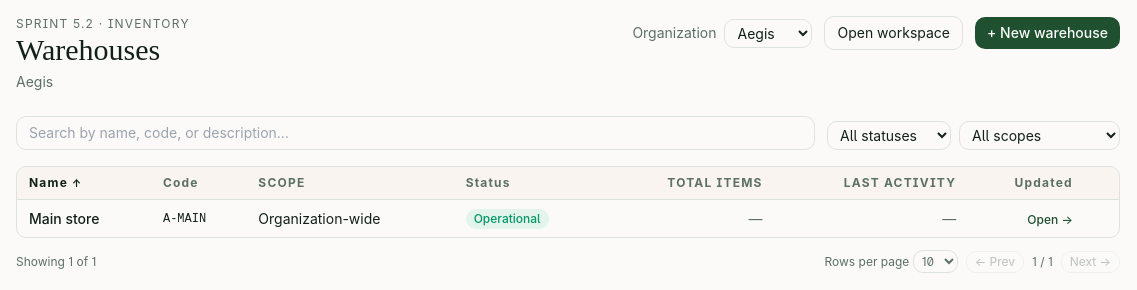
Test: WarehouseListPage › preserves organization context when switching orgs from the selector
Expected: the row with test id "warehouse-row-A-MAIN" is shown, [17,200,1119,237]
Select "Beacon" in the dropdown with test id "warehouse-list-org-selector". click: (768, 33)
box: [724,18,812,48]
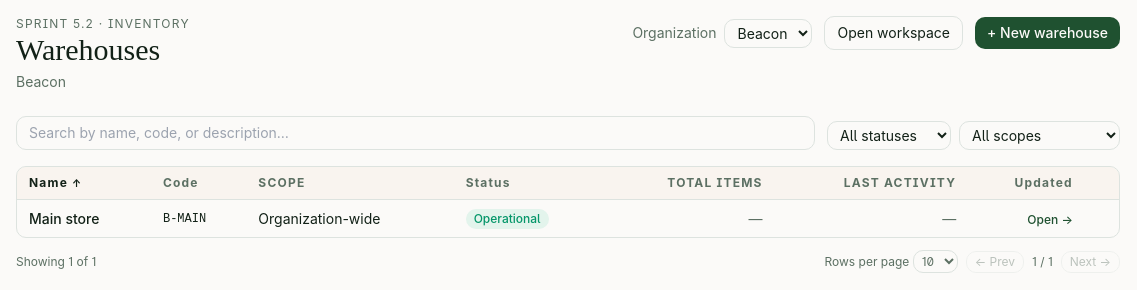
Expected: the row with test id "warehouse-row-B-MAIN" is shown, [17,200,1119,237]
Expected: the row with test id "warehouse-row-A-MAIN" is gone
